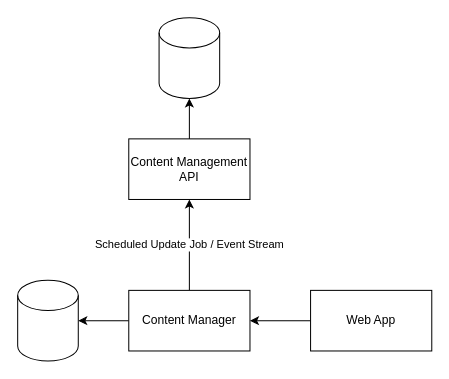
The diagram is 449 pixels wide and 379 high, and some of its shapes have lost their labels. The centre of each missing label's shape, as x and y in pixels:
Content Registry: [47,320]
Content Store: [189,57]
